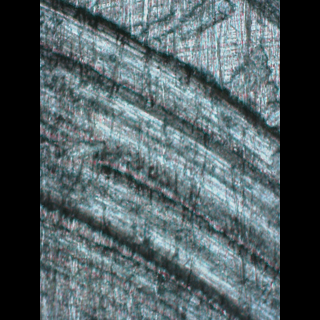d: (40, 6, 277, 319)
